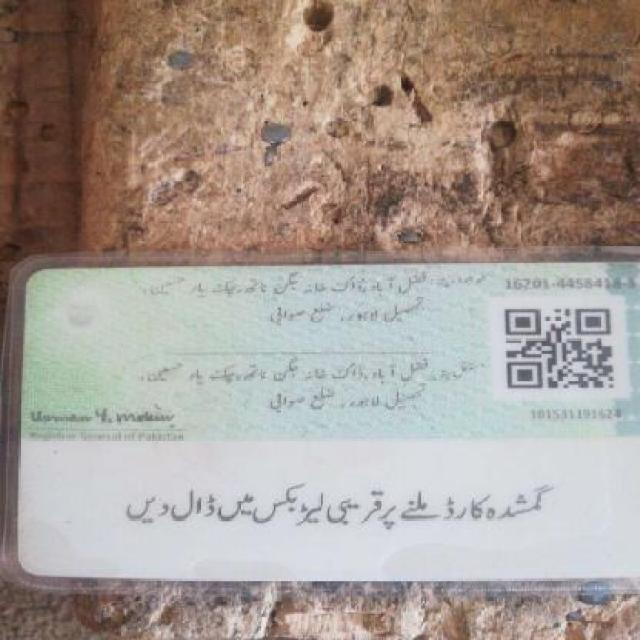Back: (11, 250, 632, 584)
